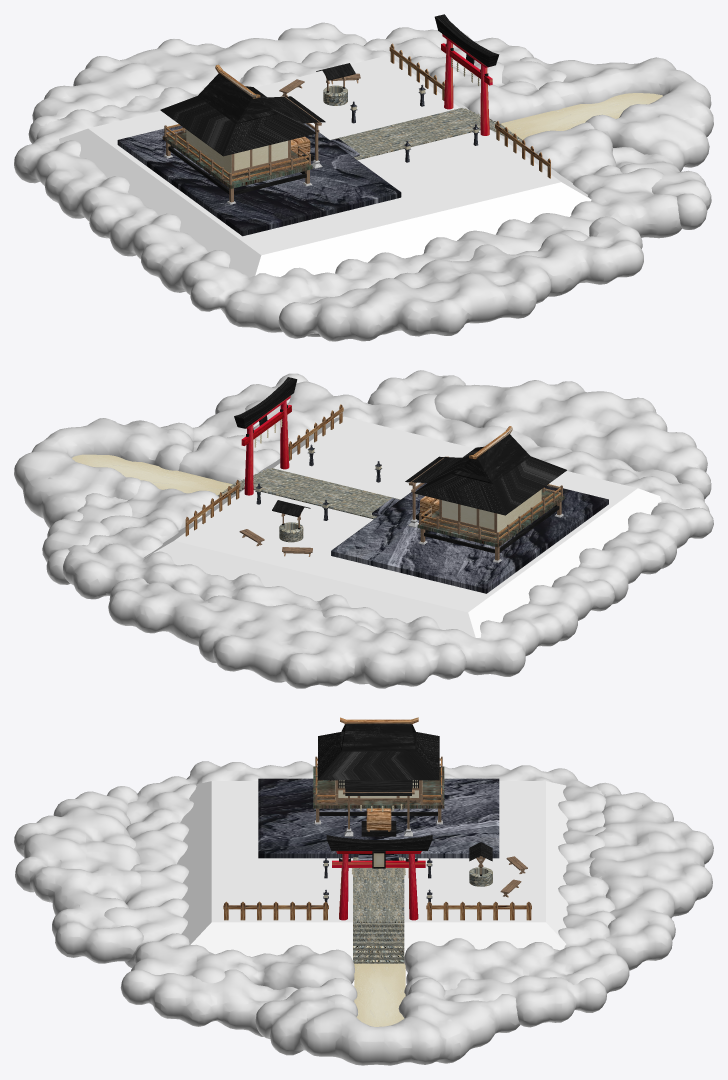
The model's file is Projet_TP3.glb.
3 renders of one model, top to bottom at view 1: azimuth 30°, elevation 25°; view 2: azimuth 150°, elevation 25°; view 3: azimuth 270°, elevation 25°, orthographic. The views are drawn at different scales.
Visible parts, largest first — view 1: Mball.127, Cube, Plane.007, Plane.013, Plane.006, Plane.026, Plane.008, Cube.019, Cube.008, Plane.014, Cube.006, Cube.002 (+2 smaller); view 2: Mball.127, Cube, Plane.007, Plane.013, Plane.006, Plane.026, Plane.008, Cube.019, Cube.008, Cube.002, Cube.006, Plane.014 (+2 smaller); view 3: Mball.127, Cube, Plane.007, Plane.013, Plane.026, Plane.006, Cube.001, Plane.008, Cube.008, Plane.014, Cube.006, Cube.002 (+3 smaller).
Boxes of the visible parts, x1,y1,x2,y2 form: Mball.127: (14, 22, 713, 341); Cube: (59, 55, 591, 277); Plane.007: (117, 123, 401, 236); Plane.013: (160, 73, 316, 156); Plane.006: (330, 108, 480, 160); Plane.026: (501, 93, 662, 139); Plane.008: (162, 130, 312, 188); Cube.019: (186, 129, 287, 172); Cube.008: (434, 14, 499, 66); Plane.014: (268, 96, 325, 123); Cube.006: (495, 121, 550, 178); Cube.002: (389, 43, 444, 100); Mball.127: (14, 370, 713, 688); Cube: (144, 416, 661, 637); Plane.007: (331, 483, 608, 593); Plane.013: (414, 434, 566, 515); Plane.006: (253, 468, 400, 519); Plane.026: (72, 454, 232, 495); Plane.008: (417, 490, 564, 547); Cube.019: (442, 489, 541, 532); Cube.008: (234, 377, 297, 428); Cube.002: (185, 480, 240, 536); Cube.006: (288, 404, 343, 460); Plane.014: (405, 456, 461, 482); Mball.127: (14, 761, 713, 1065); Cube: (177, 781, 568, 960); Plane.007: (258, 778, 499, 858); Plane.013: (318, 723, 439, 780); Plane.026: (354, 963, 405, 1026); Plane.006: (353, 857, 404, 922); Cube.001: (353, 923, 404, 963); Plane.008: (313, 766, 444, 808); Cube.008: (326, 835, 432, 850); Plane.014: (345, 780, 411, 795); Cube.006: (223, 901, 328, 920); Cube.002: (426, 901, 531, 920).
Size of the model in its own units: 32.74 by 8.25 by 34.45.
13 materials, 12 textured.
